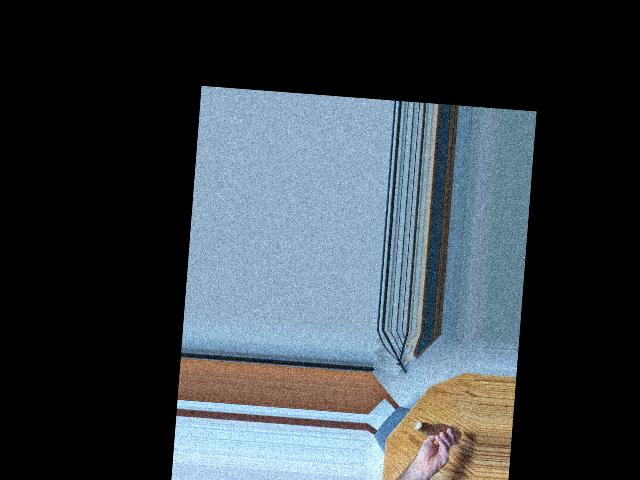sweet_potato: (412, 419, 461, 443)
